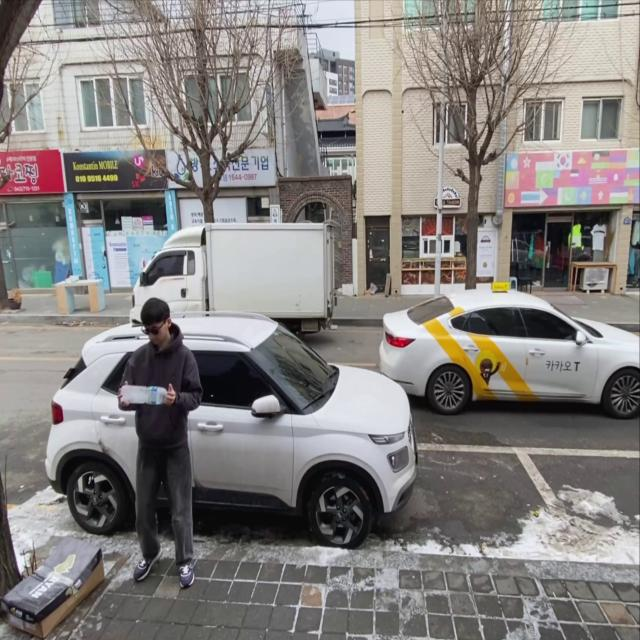bare_hand: (156, 384, 176, 406)
